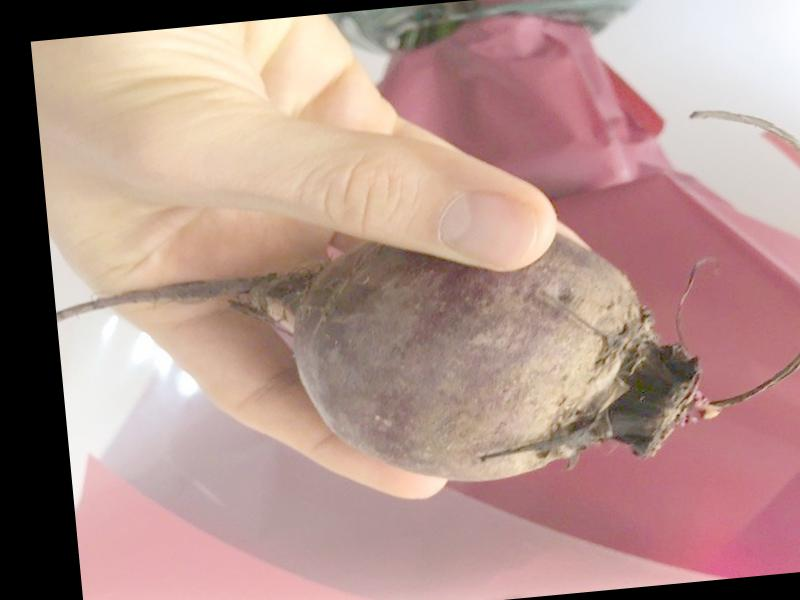Beet: (46, 99, 800, 518)
